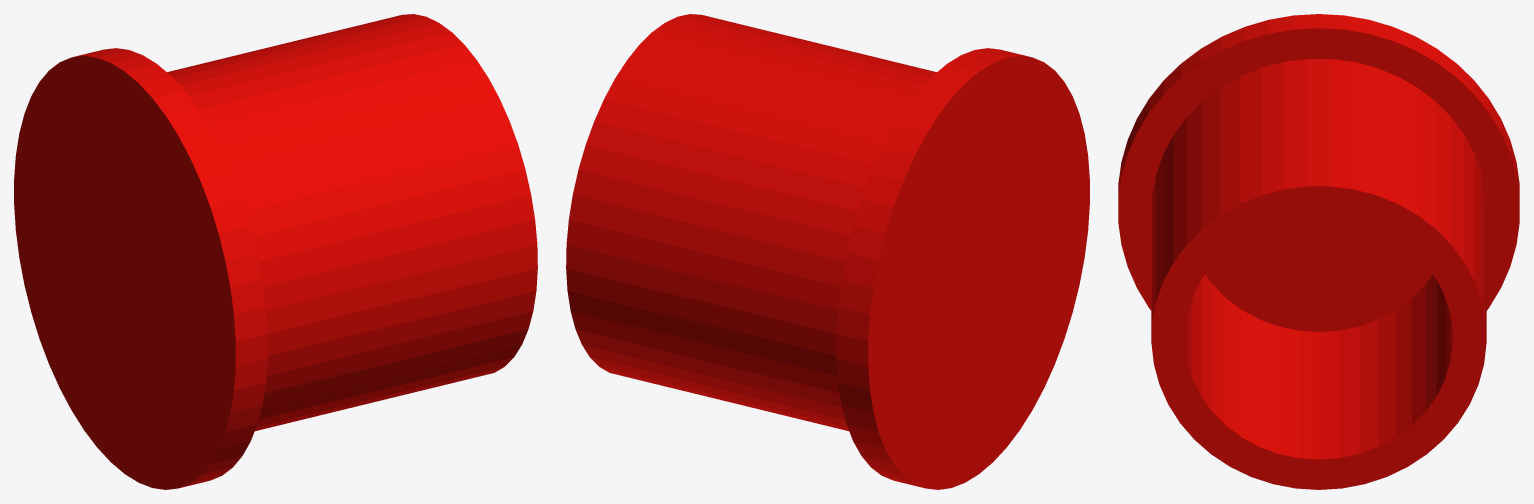
Rendered from tappino_grasso_dx.glb.
3 renders of one model, left to right at view 1: azimuth 30°, elevation 25°; view 2: azimuth 150°, elevation 25°; view 3: azimuth 270°, elevation 25°, orthographic. The views are drawn at different scales.
Visible parts, largest first — view 1: G051696_VTLF 2.250 0-79.1VSVRSV SCM EUII IE3 WAT v1.030; view 2: G051696_VTLF 2.250 0-79.1VSVRSV SCM EUII IE3 WAT v1.030; view 3: G051696_VTLF 2.250 0-79.1VSVRSV SCM EUII IE3 WAT v1.030.
Boxes of the visible parts, box(x1,y1,x2,y2) form: G051696_VTLF 2.250 0-79.1VSVRSV SCM EUII IE3 WAT v1.030: box(14, 14, 537, 489); G051696_VTLF 2.250 0-79.1VSVRSV SCM EUII IE3 WAT v1.030: box(566, 14, 1089, 489); G051696_VTLF 2.250 0-79.1VSVRSV SCM EUII IE3 WAT v1.030: box(1118, 14, 1519, 489).
Size of the model in its own units: 0.01 by 0.012 by 0.012.
